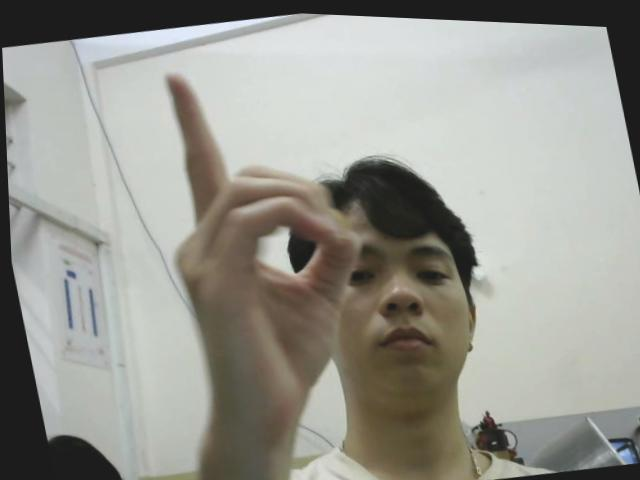D: (131, 43, 389, 433)
